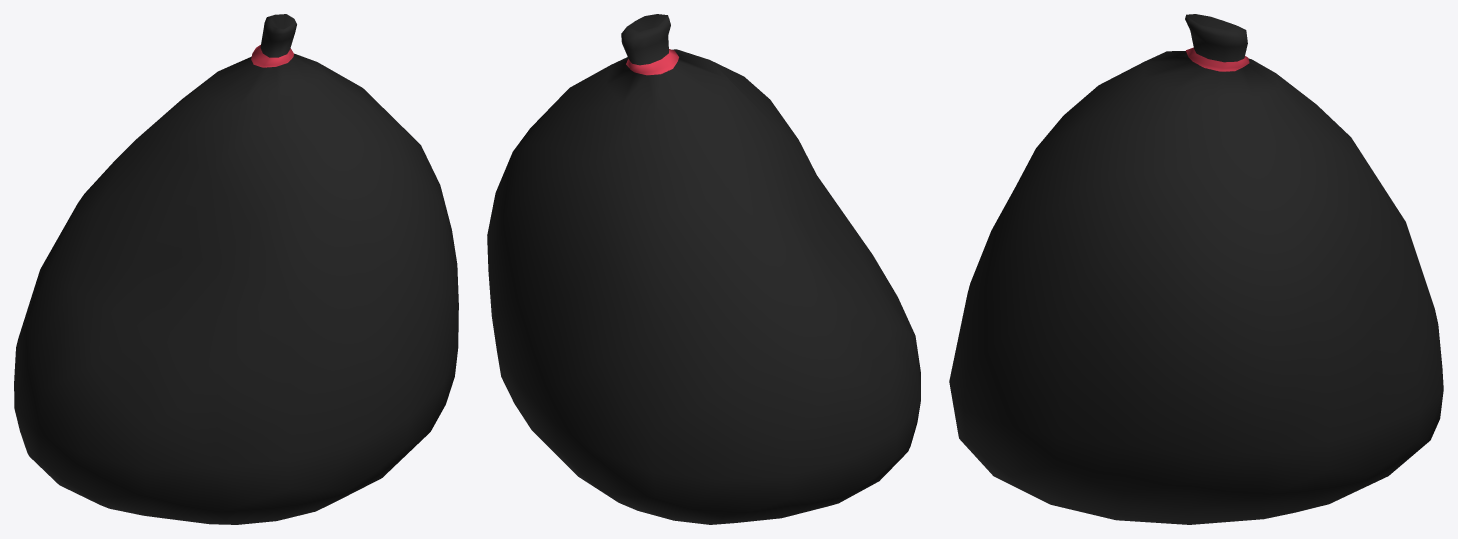
File: bag_03.fbx
The picture shows the model from 3 angles, left to right: view 1: azimuth 30°, elevation 25°; view 2: azimuth 150°, elevation 25°; view 3: azimuth 270°, elevation 25°; orthographic projection. The views are drawn at different scales.
Visible parts, largest first — view 1: Icosphere.001; view 2: Icosphere.001; view 3: Icosphere.001.
Part boxes in pixels (x1=…): Icosphere.001: x1=14, y1=14, x2=458, y2=524; Icosphere.001: x1=487, y1=14, x2=920, y2=524; Icosphere.001: x1=949, y1=14, x2=1443, y2=524.
Bounding box in the file's own units: 91.56 × 100 × 86.33.
2 materials, 2 textured.
